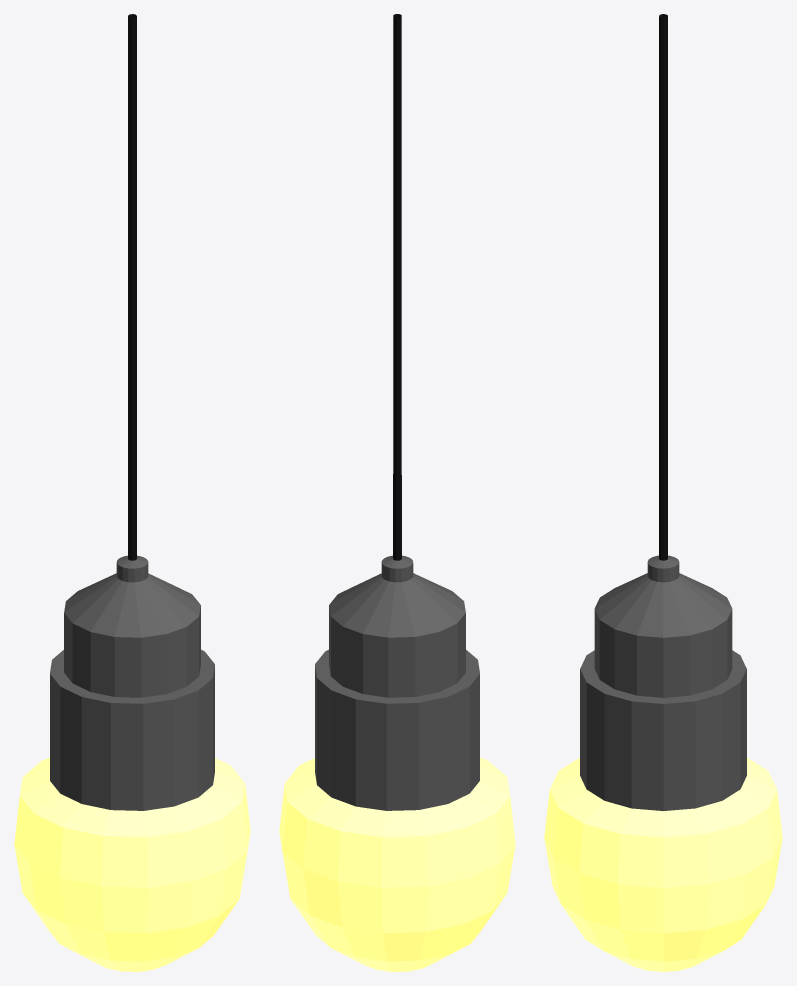
File: lightbulb.glb
3 renders of one model, left to right at view 1: azimuth 30°, elevation 25°; view 2: azimuth 150°, elevation 25°; view 3: azimuth 270°, elevation 25°, orthographic.
Visible parts, largest first — view 1: Cylinder; view 2: Cylinder; view 3: Cylinder.
Part boxes in pixels (x1,y1,x2,y2): Cylinder: [14, 14, 250, 971]; Cylinder: [279, 14, 515, 971]; Cylinder: [544, 14, 782, 971].
Bounding box in the file's own units: 0.7969 × 3.49 × 0.7969.
